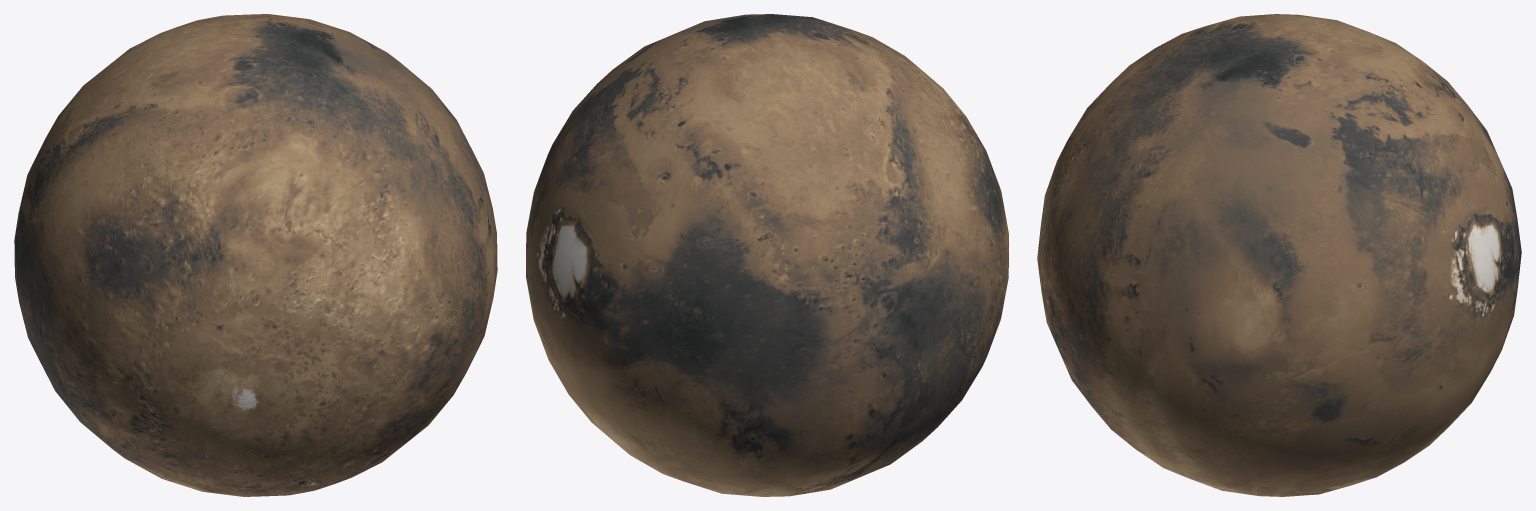
File: mars.obj
The picture shows the model from 3 angles, left to right: view 1: azimuth 30°, elevation 25°; view 2: azimuth 150°, elevation 25°; view 3: azimuth 270°, elevation 25°; orthographic projection.
Visible parts, largest first — view 1: Mars_Cube.002; view 2: Mars_Cube.002; view 3: Mars_Cube.002.
Boxes of the visible parts, x1=… form: Mars_Cube.002: x1=14, y1=14, x2=497, y2=496; Mars_Cube.002: x1=526, y1=14, x2=1008, y2=496; Mars_Cube.002: x1=1037, y1=14, x2=1521, y2=496.
Size of the model in its own units: 6.76 by 6.76 by 6.78.
Materials: 2 (1 with a texture image).
